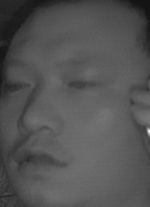eye: (67, 74, 100, 95), (4, 78, 32, 97)
mouth: (11, 140, 67, 179)
